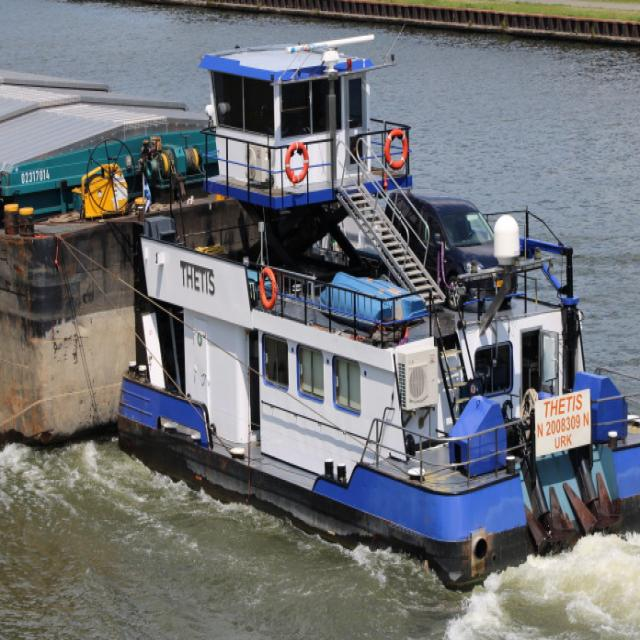tugboat: (112, 40, 640, 596)
